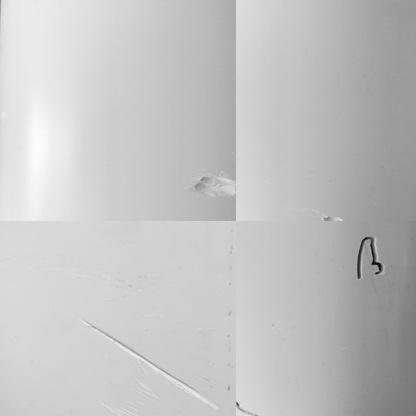fengxi: (352, 229, 385, 282), (233, 396, 257, 414)
sunshang: (81, 314, 220, 413), (192, 175, 238, 198)
